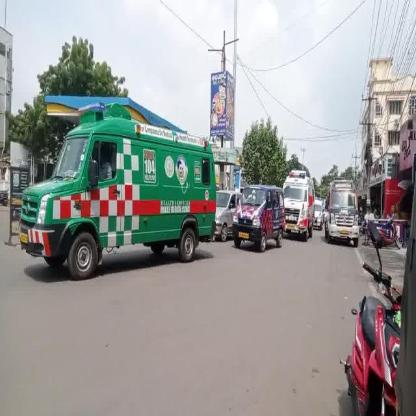priority: (18, 95, 230, 310), (236, 189, 282, 257), (330, 171, 360, 255), (286, 163, 318, 239)
